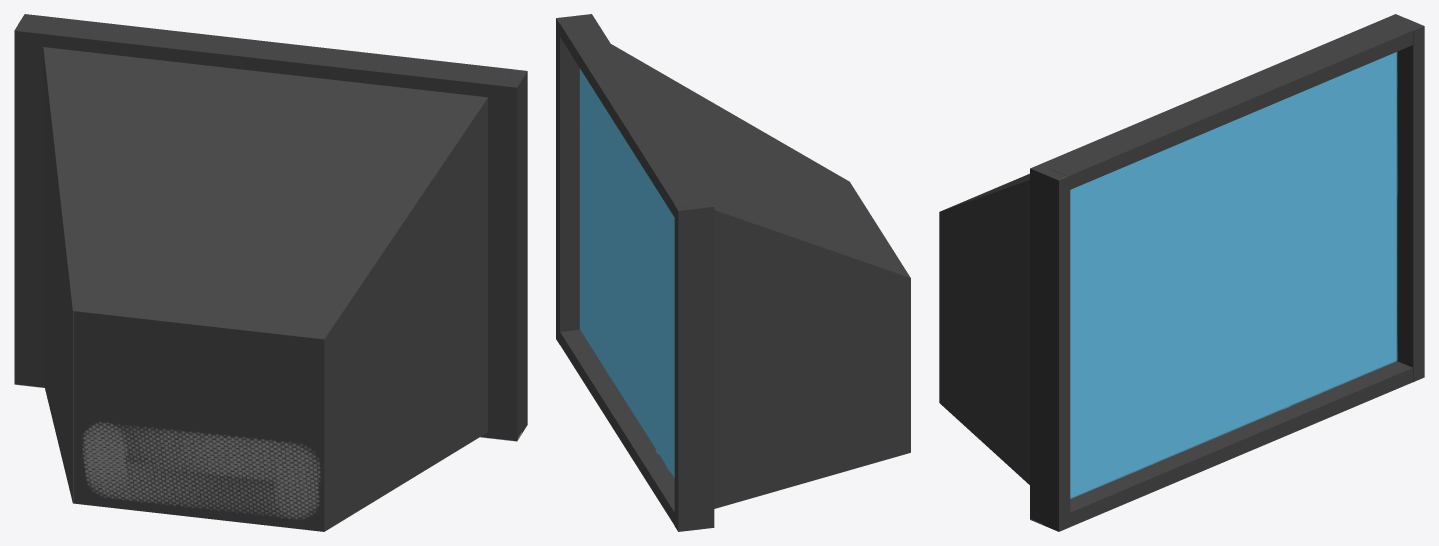
File: monitor.obj
The picture shows the model from 3 angles, left to right: view 1: azimuth 30°, elevation 25°; view 2: azimuth 150°, elevation 25°; view 3: azimuth 270°, elevation 25°; orthographic projection. The views are drawn at different scales.
Visible parts, largest first — view 1: pCube6; view 2: pCube6; view 3: pCube6.
Boxes of the visible parts, x1,y1,x2,y2 form: pCube6: [14, 14, 527, 531]; pCube6: [556, 14, 910, 531]; pCube6: [939, 14, 1424, 531].
Bounding box in the file's own units: 1.88 × 1.5 × 1.88.
1 material, 1 textured.
